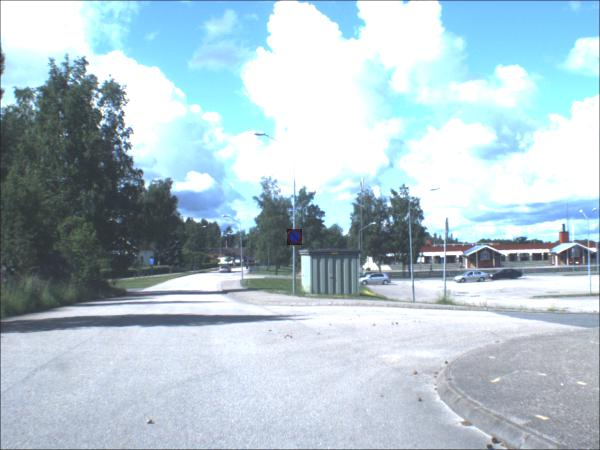NO_PARKING: (288, 230, 304, 247)
